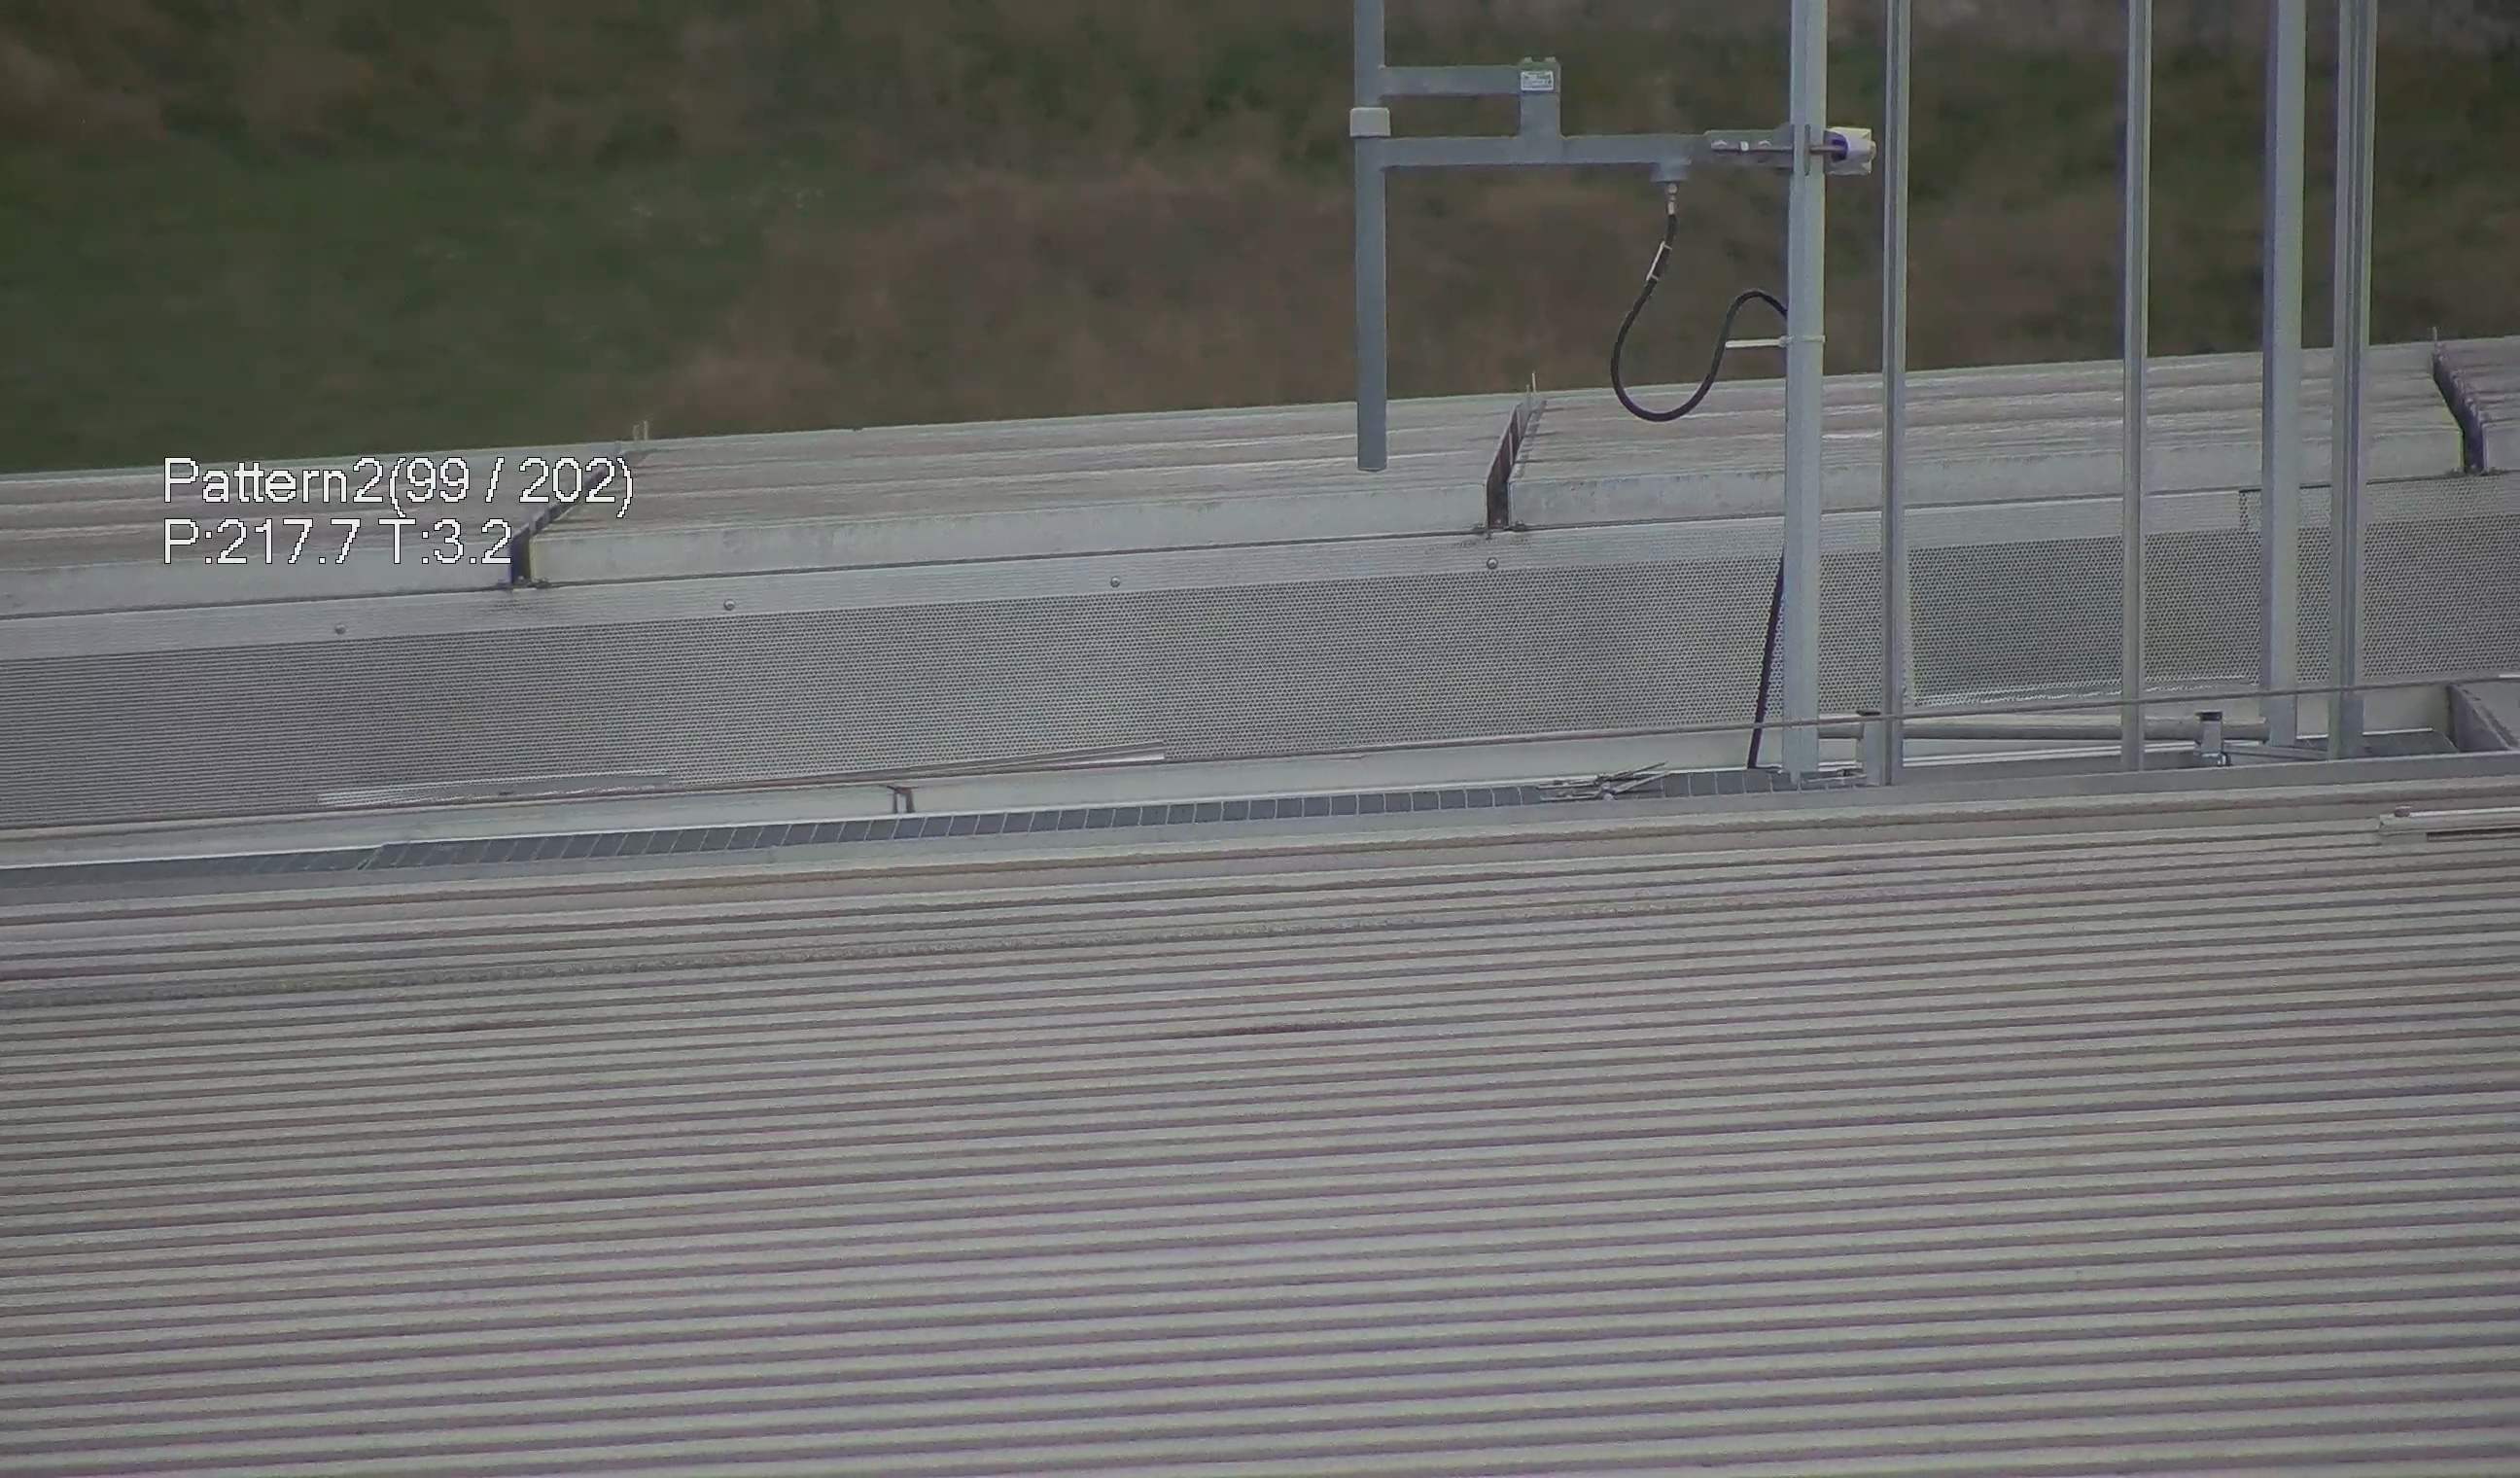Other: (2423, 313, 2511, 484)
